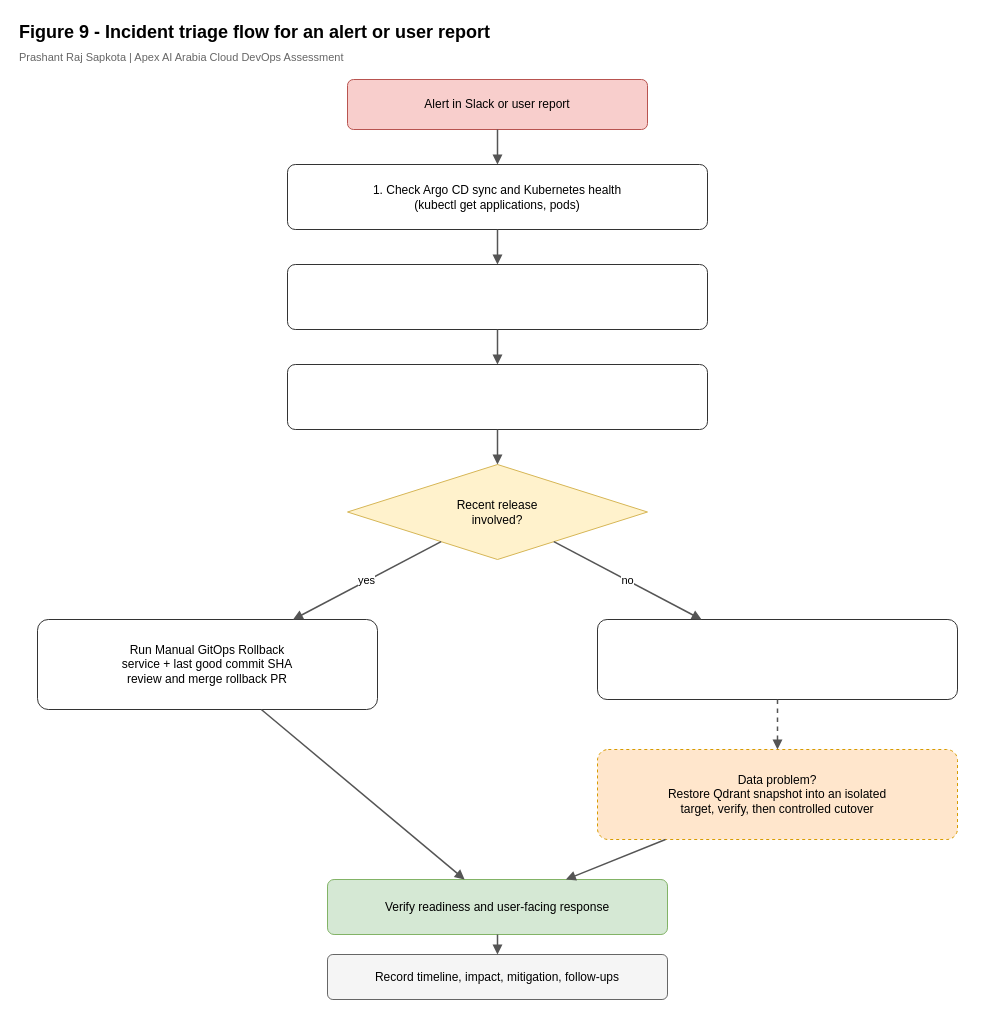
Some shapes in this 994 by 1017 pixel diagram are drawn without their labels. The shapes that lost their labels are listed below. From the top down, each one's centre as x and y in pixels, then its label:
At point (497, 297): "2. Prometheus and Grafana error rate, latency, traffic, target up".
At point (497, 397): "3. Loki logs and Tempo traces for the affected time window".
At point (777, 659): "Check dependencies and network paths (NetworkPolicy, Vault, Qdrant, RDS)".
